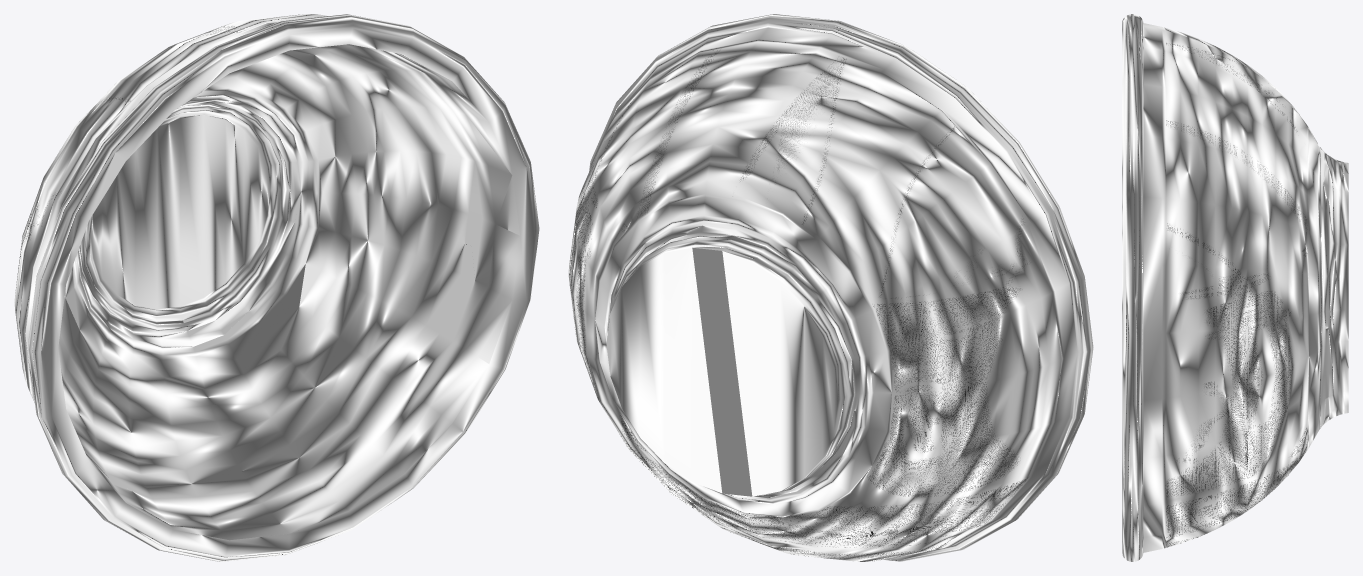
File: model_align.obj
3 renders of one model, left to right at view 1: azimuth 30°, elevation 25°; view 2: azimuth 150°, elevation 25°; view 3: azimuth 270°, elevation 25°, orthographic. The views are drawn at different scales.
Size of the model in its own units: 0.1393 by 0.1393 by 0.0574.
